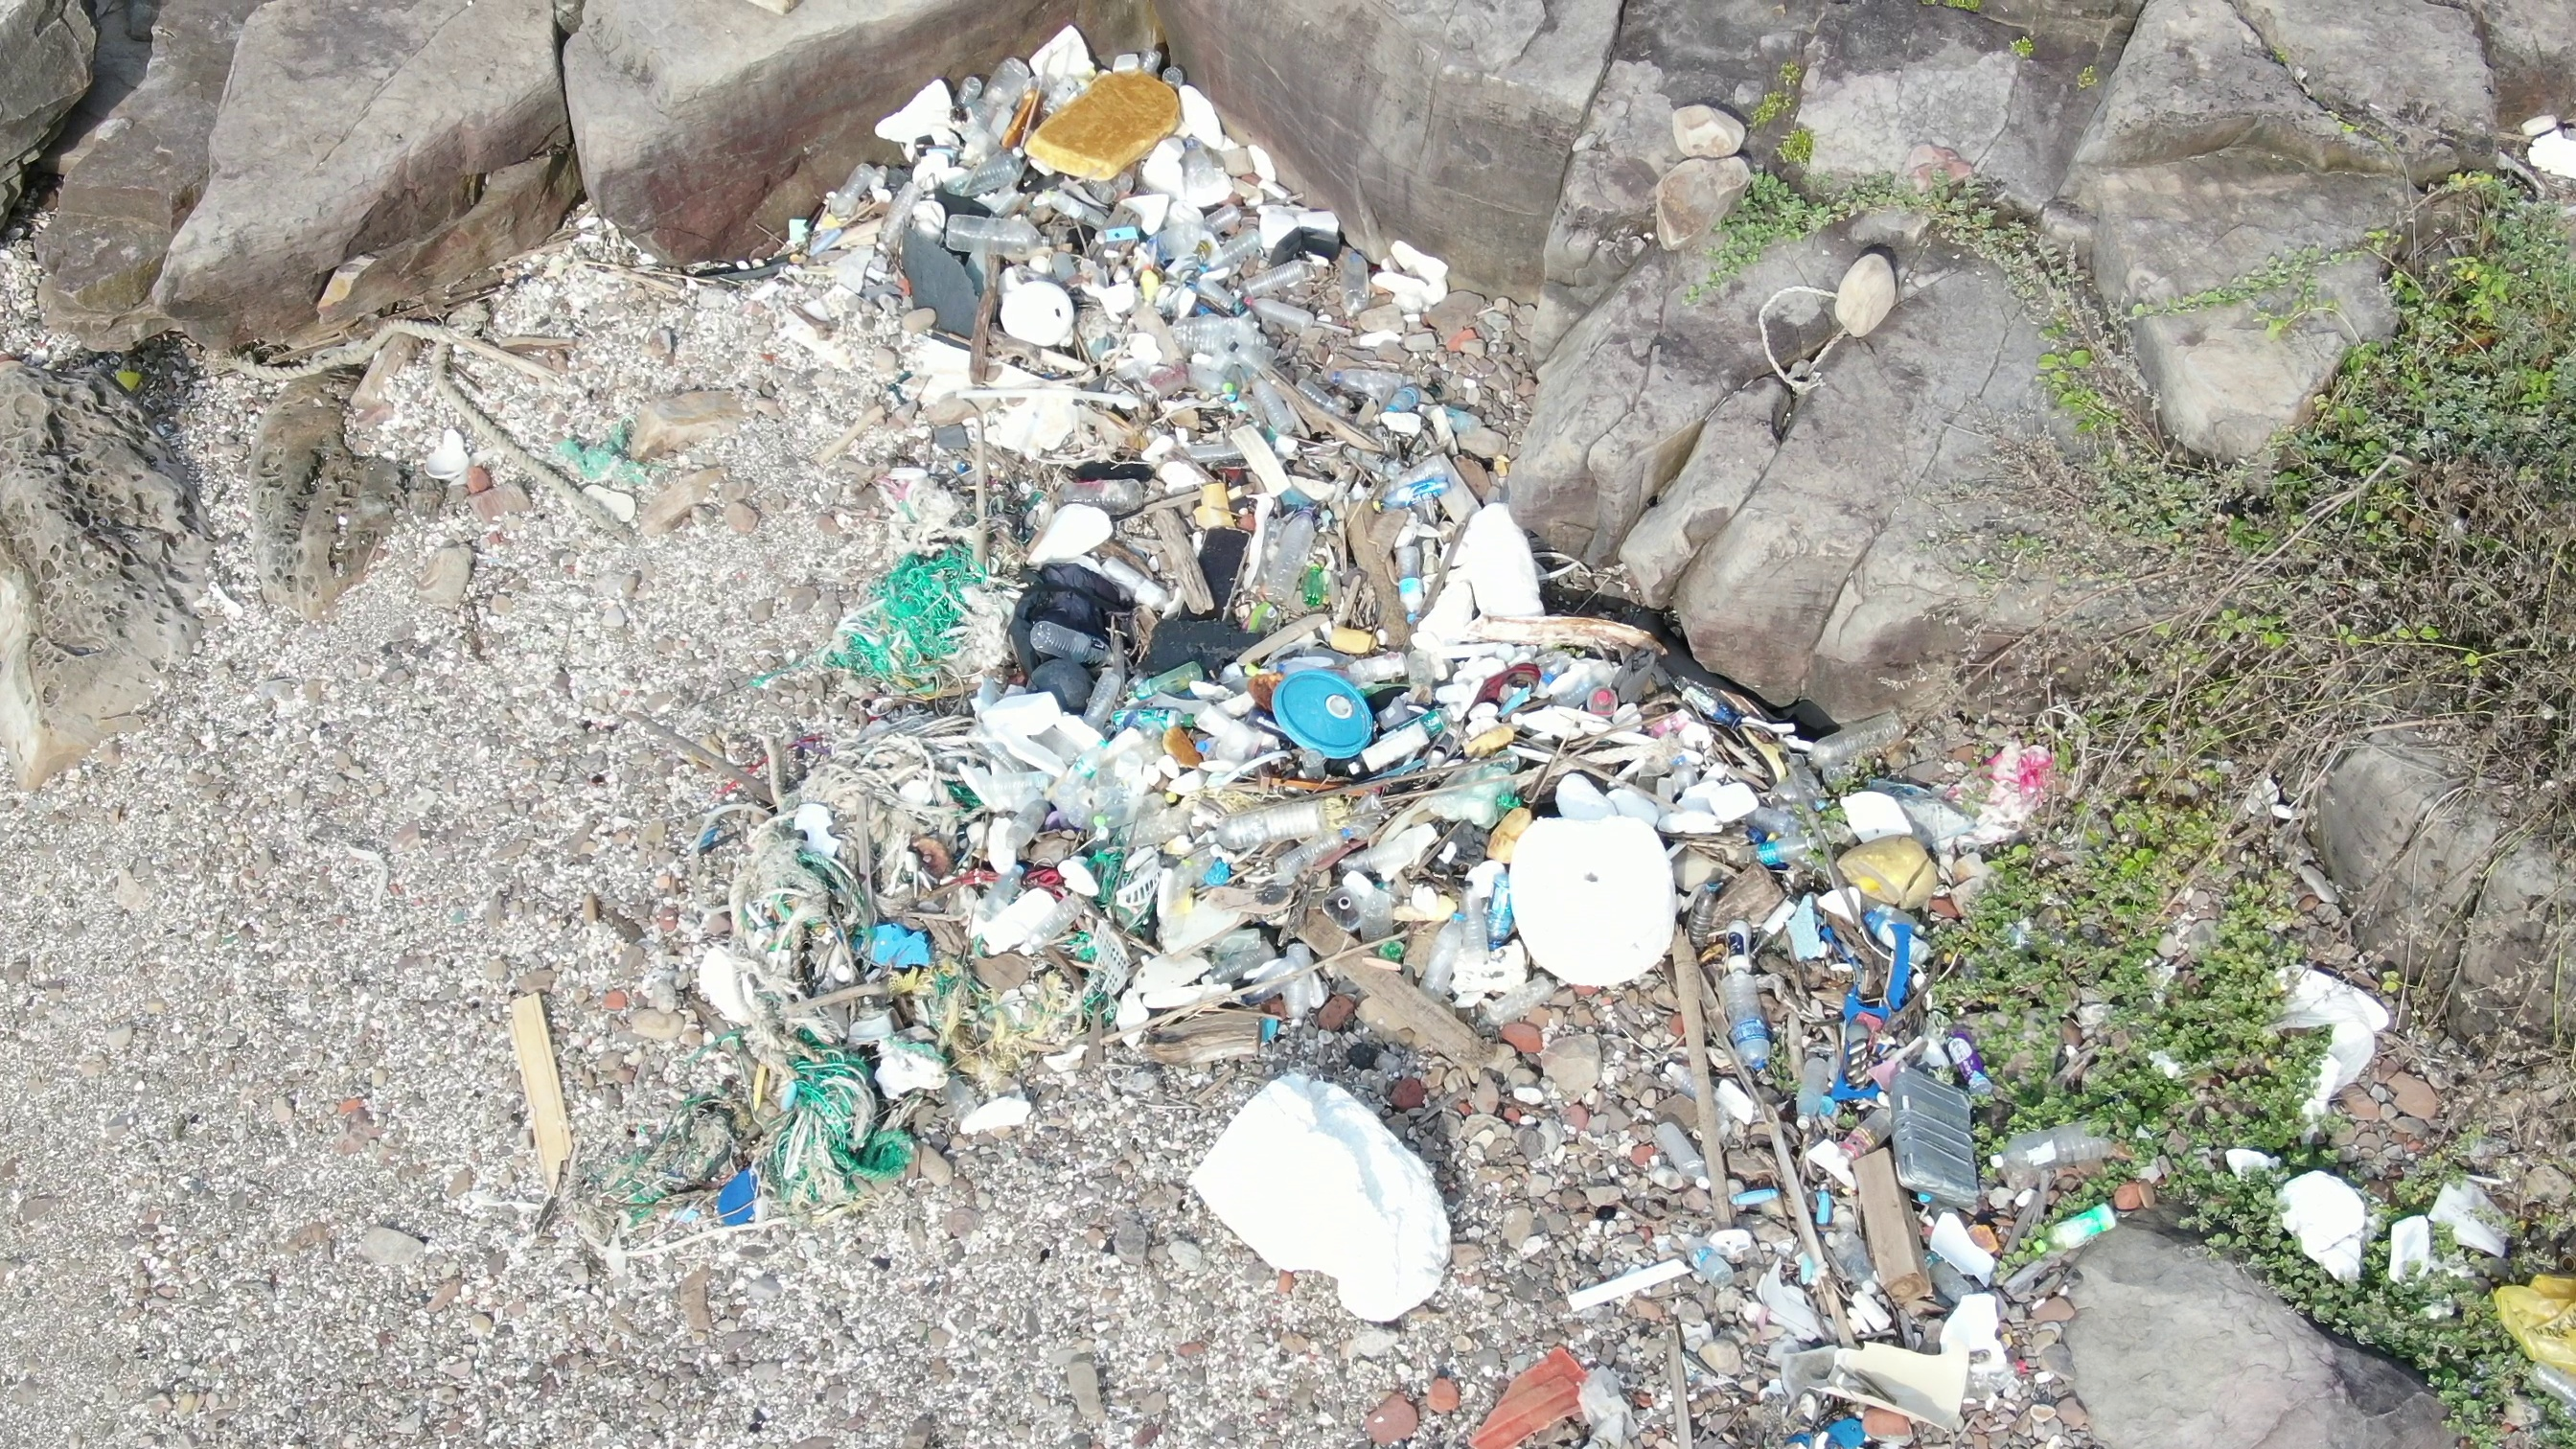bottle: (1994, 1122, 2146, 1185), (1205, 791, 1332, 860), (1270, 510, 1339, 621), (1805, 697, 1907, 768), (957, 46, 1033, 134), (1385, 525, 1444, 635), (1721, 962, 1775, 1079), (1277, 931, 1332, 1031), (1941, 1007, 1999, 1100), (938, 211, 1051, 258), (1231, 249, 1322, 306), (1031, 612, 1118, 671), (2042, 1198, 2125, 1256), (1113, 663, 1214, 709), (1424, 904, 1468, 1003), (1244, 370, 1300, 439), (1366, 474, 1456, 515), (1798, 1040, 1831, 1139), (1155, 317, 1253, 350), (1488, 867, 1520, 968), (1744, 830, 1812, 878), (1010, 782, 1054, 855), (950, 156, 1017, 202), (1690, 878, 1727, 950), (1323, 361, 1401, 395)
garbage: (453, 630, 2065, 1224), (761, 11, 1537, 649), (2226, 920, 2576, 1428), (1752, 1146, 2166, 1449), (202, 295, 662, 534), (1737, 255, 1897, 409), (2526, 120, 2574, 189)
